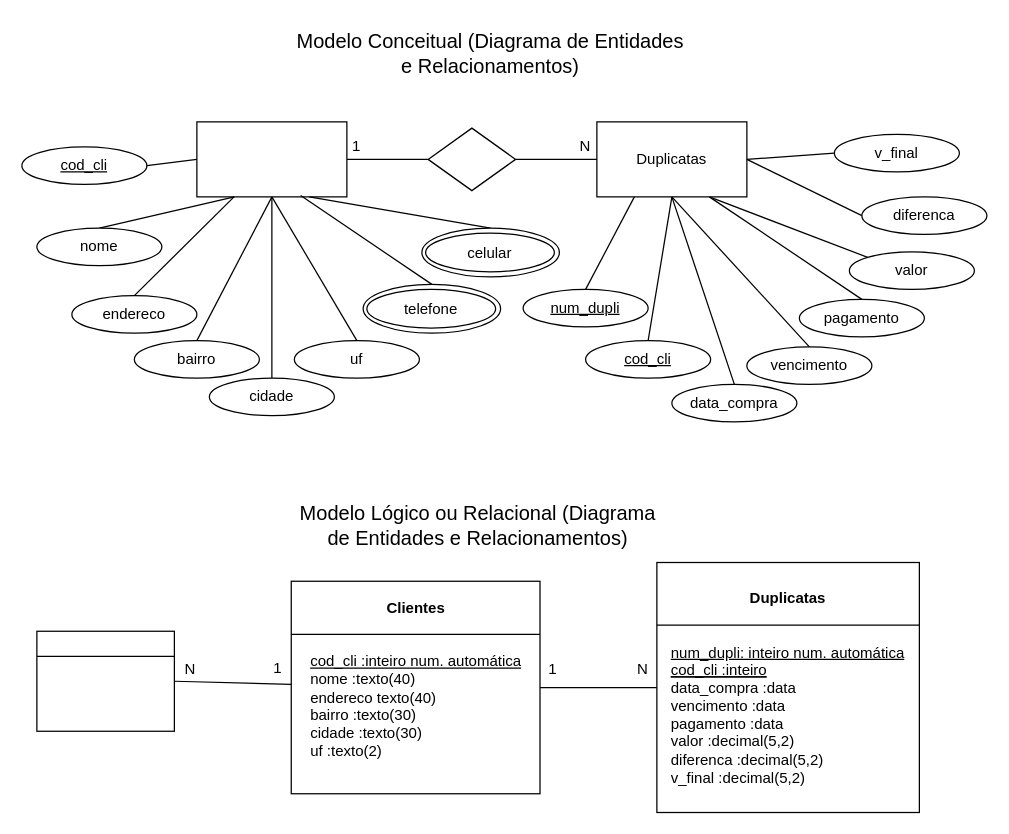
Image size: 1009x834. Some labels were removed from this diagram. Each missing label, with the centre of its shape:
Clientes: the point at 271,159
possui: the point at 471,159
Telefones cod_cli :inteiro telefone :texto(15) celular :texto(15): the point at 105,680
